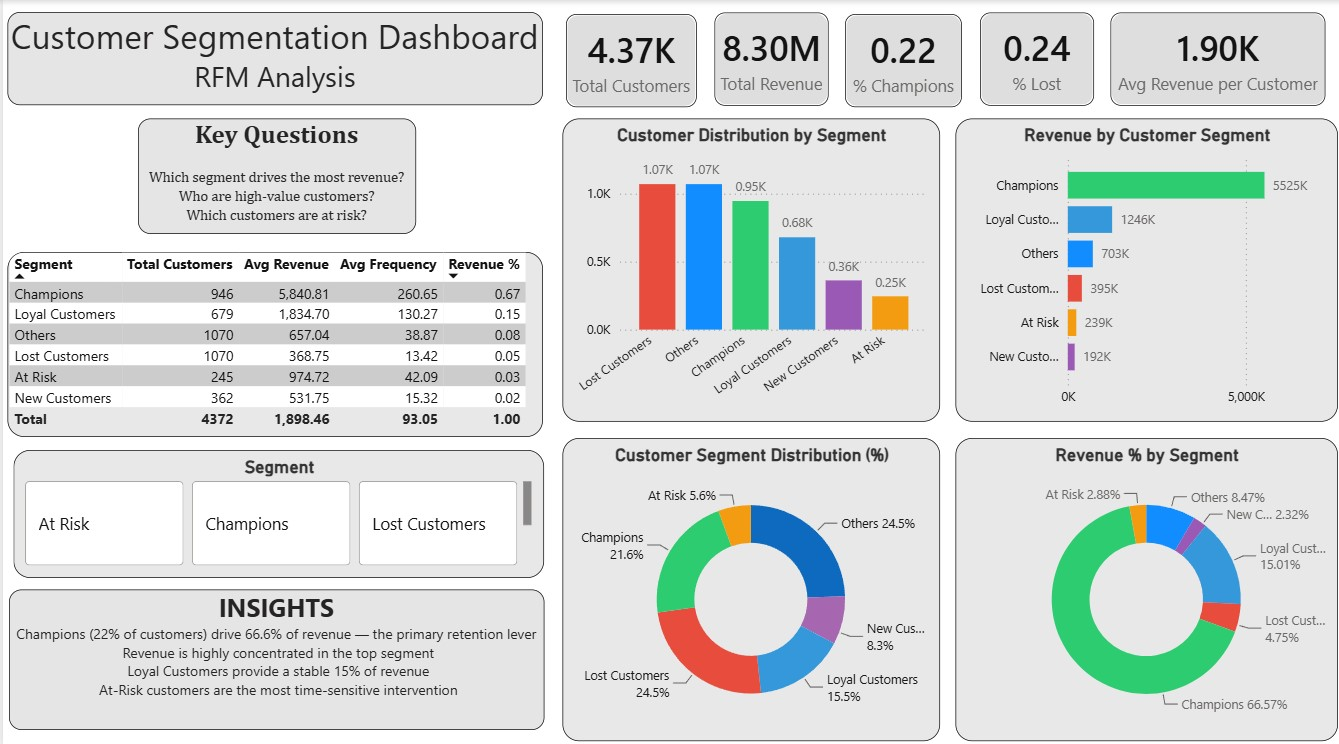

The page's visual inventory and layout, read from the dashboard file:
{"tool":"powerbi","page":{"name":"Page 1","canvas":[1280,720],"ordinal":0},"visuals":[{"type":"cardVisual","fields":{"Data":["rfm_final.Total Customers"]},"box":[528.5,1.5,149.9,113.6],"z":0},{"type":"columnChart","title":"Customer Distribution by Segment","fields":{"Category":["rfm_final.segment"],"Y":["CountNonNull(rfm_final.CustomerID)"]},"box":[536,113.6,361.9,290.7],"z":1000},{"type":"barChart","title":"Revenue by Customer Segment","fields":{"Category":["rfm_final.segment"],"Y":["Sum(rfm_final.monetary)"]},"box":[913.1,113.6,366.4,290.7],"z":2000},{"type":"donutChart","title":"Revenue % by Segment","fields":{"Y":["rfm_final.Revenue %"],"Category":["rfm_final.Segment"]},"box":[913.1,419.4,366.4,290.7],"z":3000},{"type":"textbox","box":[4.5,12.1,513.3,89.3],"z":4000},{"type":"advancedSlicerVisual","fields":{"Values":["rfm_final.Segment"]},"box":[10.6,431.5,508.8,122.7],"z":5000},{"type":"cardVisual","fields":{"Data":["rfm_final.% Lost"]},"box":[924.2,0,133.7,113.6],"z":6000},{"type":"cardVisual","fields":{"Data":["rfm_final.% Champions"]},"box":[795.8,1.4,136.6,113.6],"z":7000},{"type":"cardVisual","fields":{"Data":["rfm_final.Total Revenue"]},"box":[670.2,0,133.7,113.6],"z":8000},{"type":"donutChart","title":"Customer Segment Distribution (%)","fields":{"Category":["rfm_final.segment"],"Y":["rfm_final.Total Customers"]},"box":[536,419.4,361.9,290.7],"z":9000},{"type":"tableEx","fields":{"Values":["rfm_final.Segment","rfm_final.Total Customers","rfm_final.Avg Revenue","rfm_final.Avg Frequency","rfm_final.Revenue %"]},"box":[4.5,242.3,513.3,177.2],"z":10000},{"type":"cardVisual","fields":{"Data":["rfm_final.Avg Revenue per Customer"]},"box":[1049.8,0,230.1,113.6],"z":11000},{"type":"textbox","box":[6.1,564.8,513.3,134.8],"z":12000},{"type":"textbox","box":[129.5,113.6,266.5,110.5],"z":13000}]}

Visuals, with their boxes in screenshot pixels (x1, y1, x2, y2), scaled from the page's 1280x720 canvas onto the 1339x744 screenshot:
cardVisual - rfm_final.Total Customers: 553,2,710,119
"Customer Distribution by Segment" columnChart: 561,117,939,418
"Revenue by Customer Segment" barChart: 955,117,1338,418
"Revenue % by Segment" donutChart: 955,433,1338,734
textbox: 5,13,542,105
advancedSlicerVisual - rfm_final.Segment: 11,446,543,573
cardVisual - rfm_final.% Lost: 967,0,1107,117
cardVisual - rfm_final.% Champions: 832,1,975,119
cardVisual - rfm_final.Total Revenue: 701,0,841,117
"Customer Segment Distribution (%)" donutChart: 561,433,939,734
tableEx - rfm_final.Segment x rfm_final.Total Customers: 5,250,542,433
cardVisual - rfm_final.Avg Revenue per Customer: 1098,0,1338,117
textbox: 6,584,543,723
textbox: 135,117,414,232
